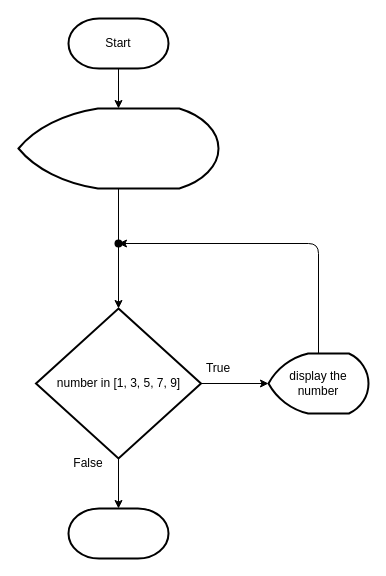
Some shapes in this 386 by 576 pixel diagram are drawn without their labels. Each missing label, with the centre of its shape:
"I will display the odd number 1 through 9.": (118,148)
End: (118,533)
